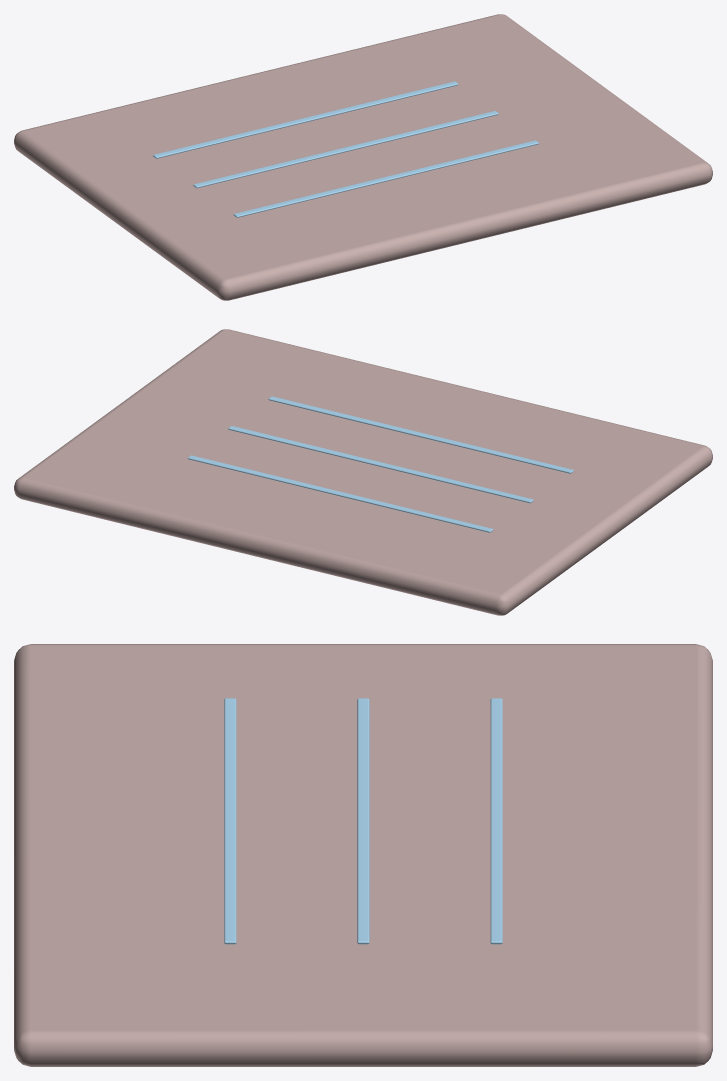
Rendered from officeStickyNote4.glb.
The picture shows the model from 3 angles, top to bottom: view 1: azimuth 30°, elevation 25°; view 2: azimuth 150°, elevation 25°; view 3: azimuth 270°, elevation 25°; orthographic projection. The views are drawn at different scales.
Visible parts, largest first — view 1: Paper, Printed line.001, Printed line, Printed line.002; view 2: Paper, Printed line.001, Printed line.002, Printed line; view 3: Paper, Printed line, Printed line.002, Printed line.001.
Boxes of the visible parts, box(x1,y1,x2,y2) form: Paper: box(14, 14, 712, 300); Printed line.001: box(193, 111, 498, 188); Printed line: box(233, 140, 538, 217); Printed line.002: box(153, 81, 458, 158); Paper: box(14, 329, 712, 615); Printed line.001: box(228, 426, 533, 503); Printed line.002: box(188, 455, 493, 532); Printed line: box(268, 396, 573, 473); Paper: box(14, 644, 712, 1066); Printed line: box(224, 698, 236, 944); Printed line.002: box(490, 698, 502, 944); Printed line.001: box(357, 698, 369, 944).
Bounding box in the file's own units: 0.85 × 0.039 × 0.63.
